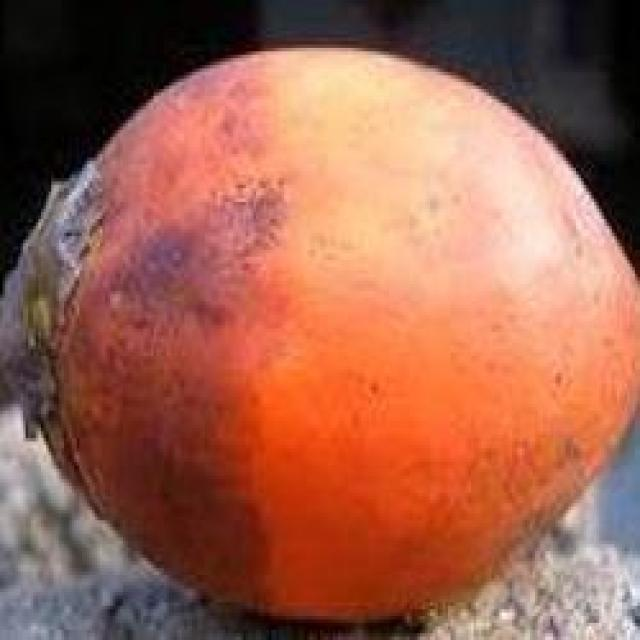good: (0, 44, 637, 637)
